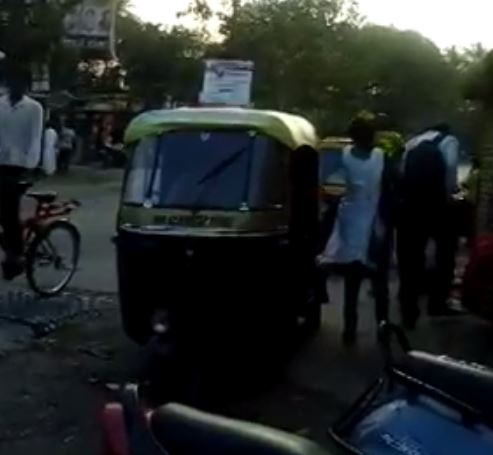autorickshaw: (108, 101, 341, 373), (313, 129, 358, 215)
